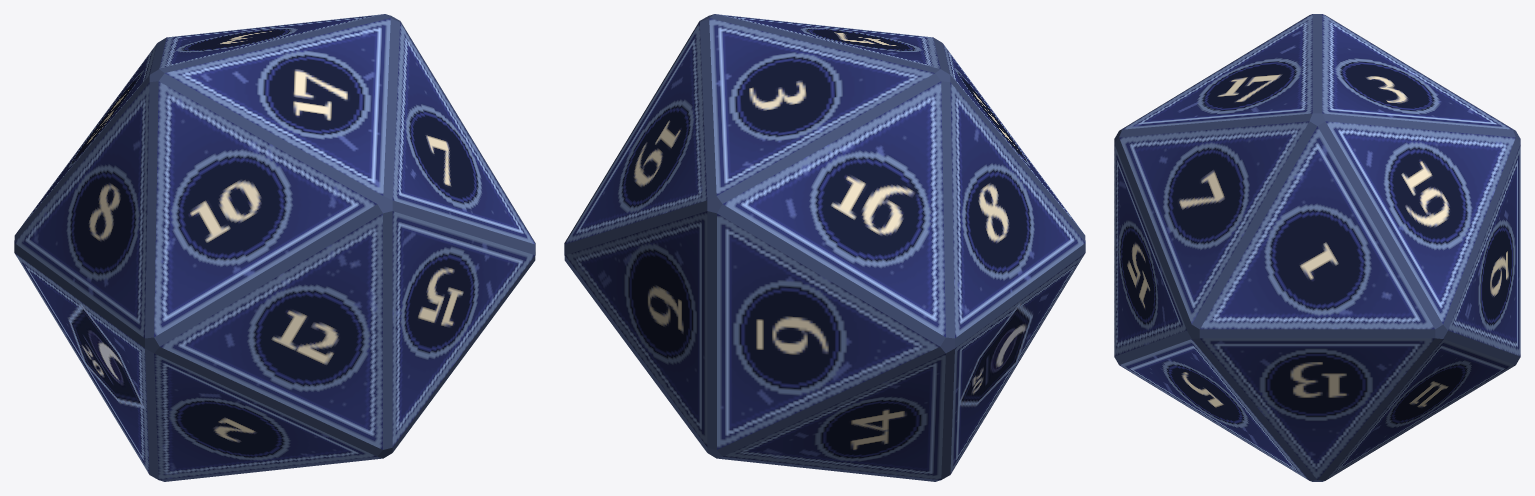
The picture shows the model from 3 angles, left to right: view 1: azimuth 30°, elevation 25°; view 2: azimuth 150°, elevation 25°; view 3: azimuth 270°, elevation 25°; orthographic projection. The views are drawn at different scales.
Size of the model in its own units: 160 by 160 by 160.
Materials: 1 (1 with a texture image).
